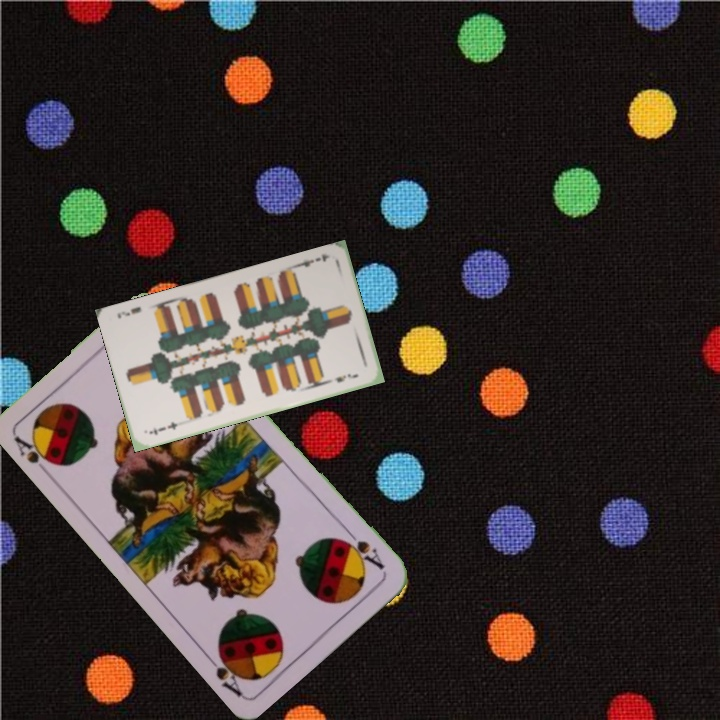E7: (293, 250, 333, 270), (145, 418, 180, 438)
SA: (9, 429, 63, 480), (337, 526, 387, 573)
